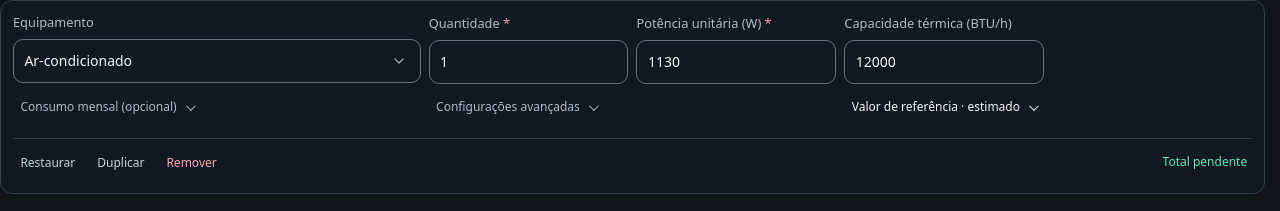
autofills real reference and preserves manual override and restoration
Replace the text in the number field labelled "Potência unitária (W) *" with "850". click: (736, 62)
box: [636,40,836,84]
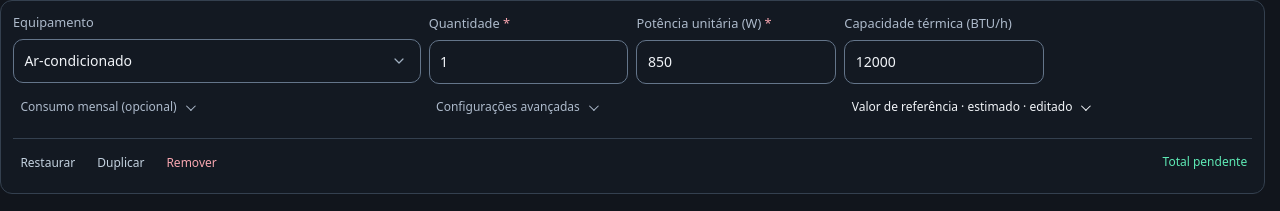
Check: the heading "Valor de referência · estimado · editado" is shown, box [852,98,1072,116]
Click the button with aria-label "Restaurar sugestão". click: (48, 163)
box: [13,145,83,181]
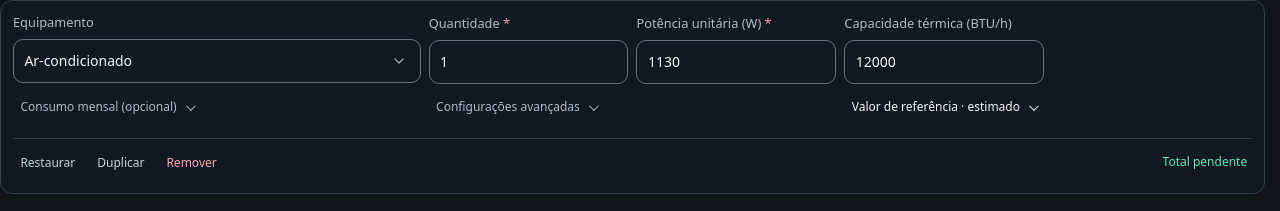
Check: the number field labelled "Potência unitária (W) *" holds "1130", box [636,40,836,84]
